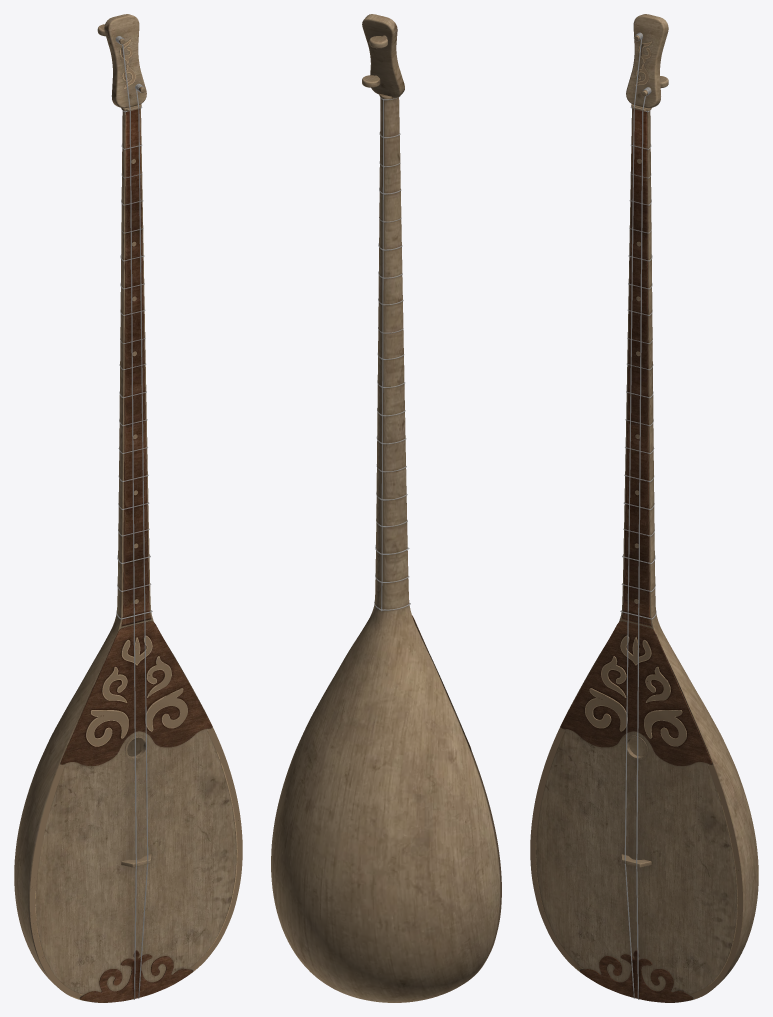
The model's file is dombyra_by_sultan_elamanov.glb.
3 renders of one model, left to right at view 1: azimuth 30°, elevation 25°; view 2: azimuth 150°, elevation 25°; view 3: azimuth 330°, elevation 25°, orthographic.
Size of the model in its own units: 1.99 by 8.69 by 1.08.
Materials: 6 (5 with a texture image).
